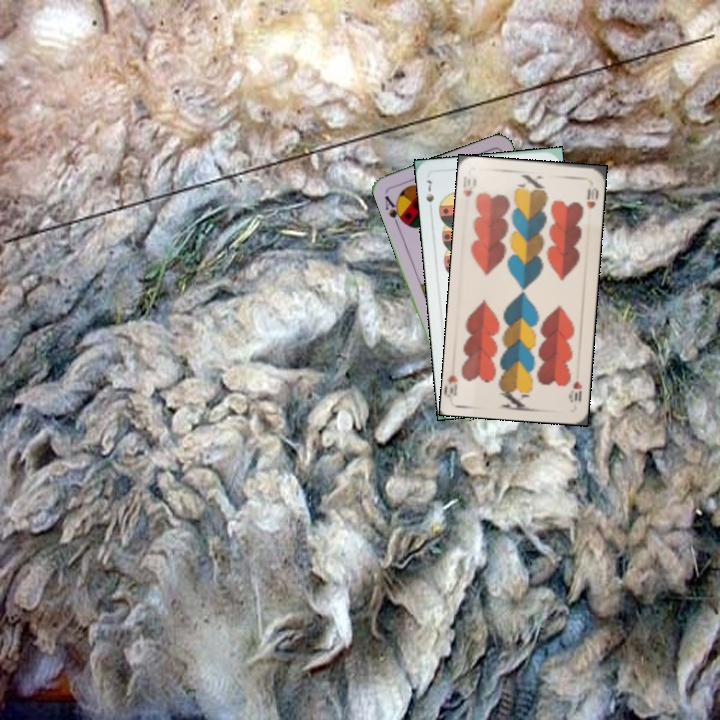H10: (459, 172, 479, 200), (565, 376, 584, 405)
S7: (422, 176, 436, 204)
SA: (381, 191, 407, 229)
